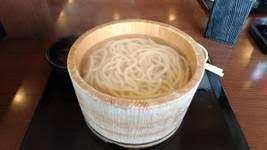kamaage: (54, 12, 215, 149)
